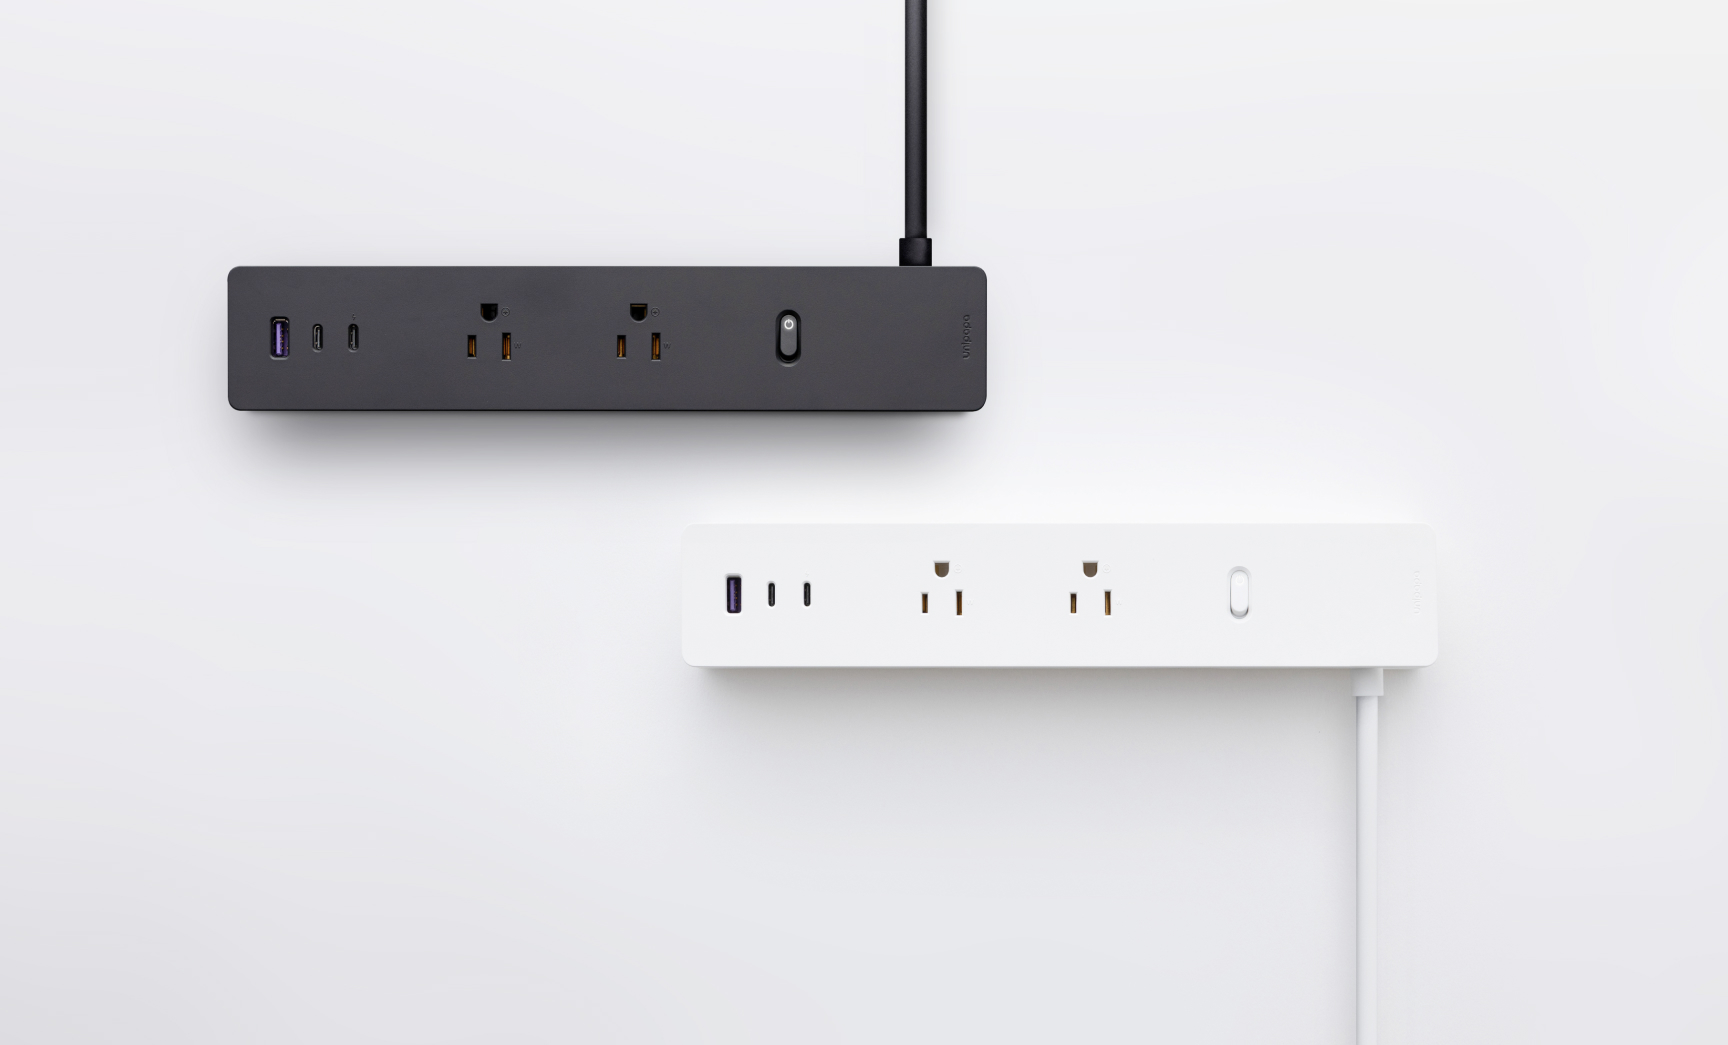socket: (676, 522, 1443, 700), (223, 239, 987, 417)
